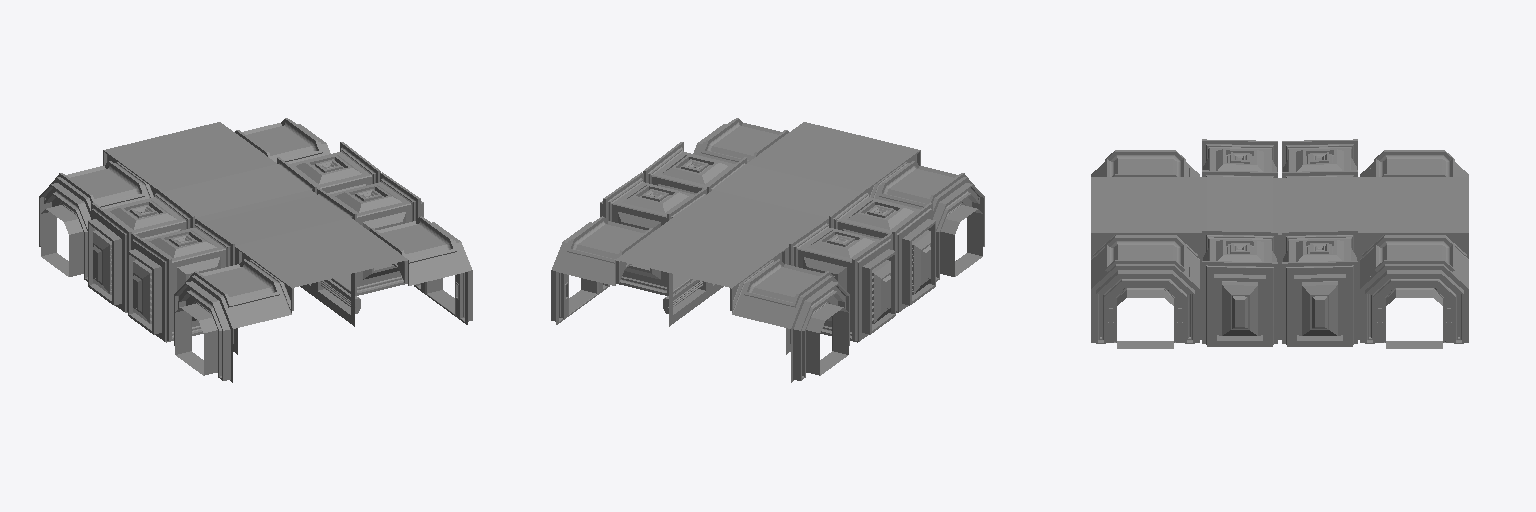
File: map3.obj
The picture shows the model from 3 angles: view 1: azimuth 30°, elevation 25°; view 2: azimuth 150°, elevation 25°; view 3: azimuth 270°, elevation 25°; orthographic projection.
Visible parts, largest first — view 1: model_model_03; view 2: model_model_03; view 3: model_model_03.
Boxes of the visible parts, x1=… form: model_model_03: x1=39, y1=118, x2=472, y2=382; model_model_03: x1=551, y1=118, x2=984, y2=382; model_model_03: x1=1091, y1=139, x2=1468, y2=348.
Bounding box in the file's own units: 1415 × 531 × 1644.